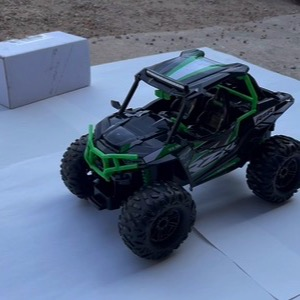polaris: (59, 49, 299, 260)
